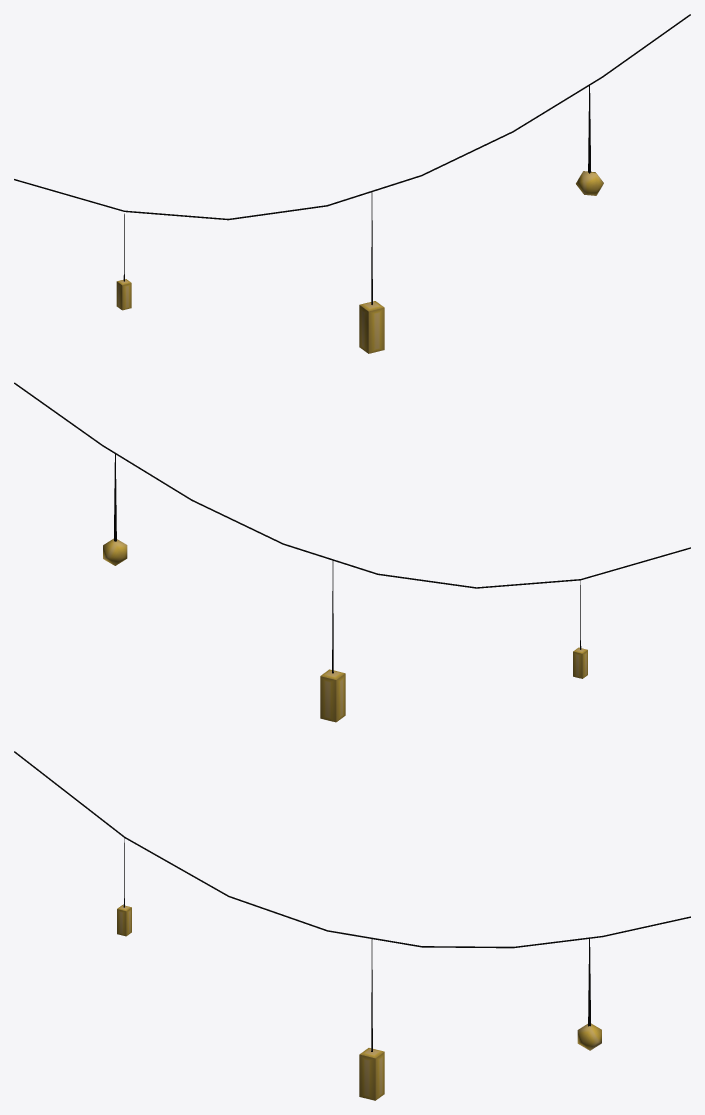
The model's file is Garland_A_3_SpherifyQuadLamps_Yellow.fbx.
3 views of the same model, one above another, from view 1: azimuth 30°, elevation 25°; view 2: azimuth 150°, elevation 25°; view 3: azimuth 330°, elevation 25° (orthographic).
Visible parts, largest first — view 1: Garland_A_3_SpherifyQuadLamps_Yellow; view 2: Garland_A_3_SpherifyQuadLamps_Yellow; view 3: Garland_A_3_SpherifyQuadLamps_Yellow.
Part boxes in pixels (x1,y1,x2,y2): Garland_A_3_SpherifyQuadLamps_Yellow: (14, 14, 690, 353); Garland_A_3_SpherifyQuadLamps_Yellow: (14, 382, 690, 722); Garland_A_3_SpherifyQuadLamps_Yellow: (14, 751, 690, 1100).
Size of the model in its own units: 673 by 245 by 24.61.
